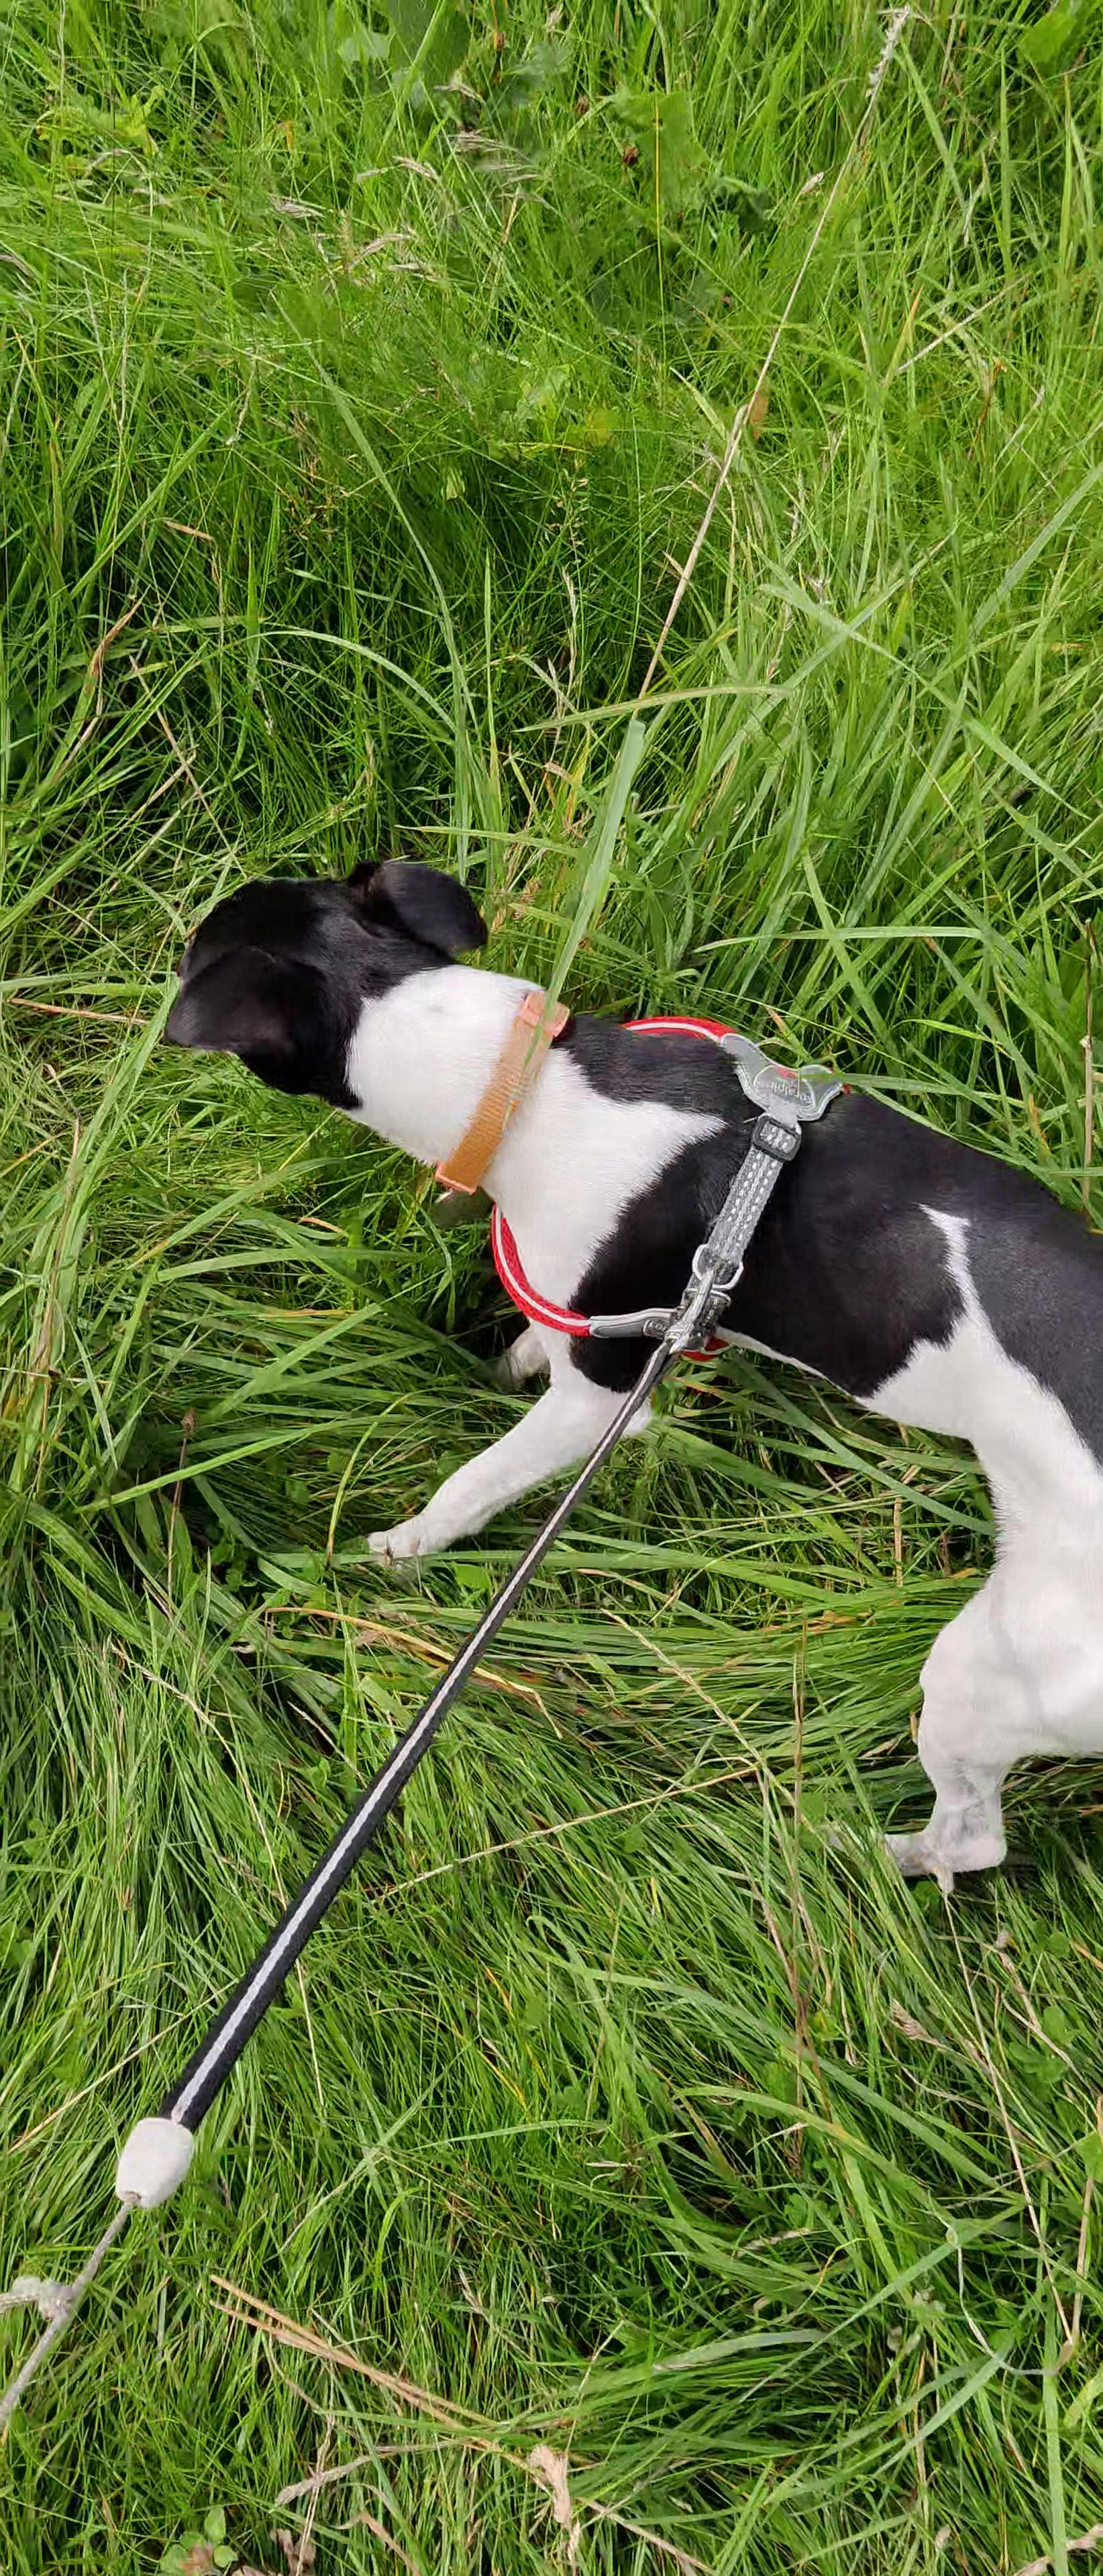Dog: (161, 844, 1103, 1889)
